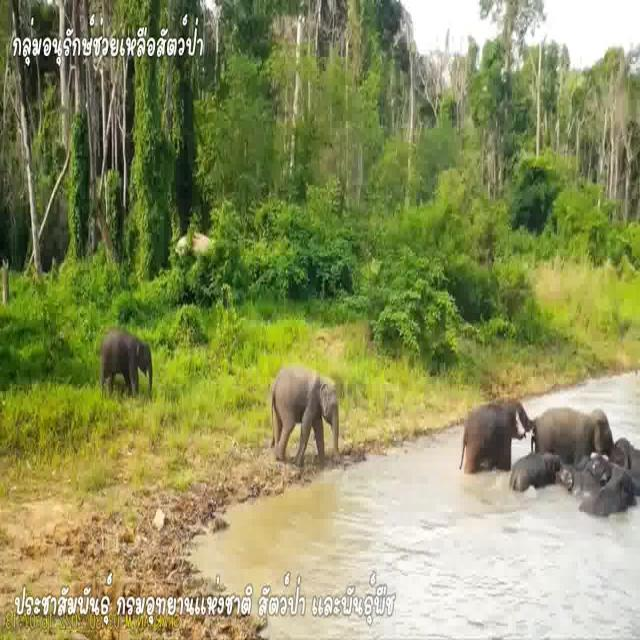Elephant: (272, 362, 341, 461), (461, 391, 522, 466), (537, 402, 612, 462), (102, 329, 154, 393), (594, 457, 640, 517), (515, 452, 558, 492)
